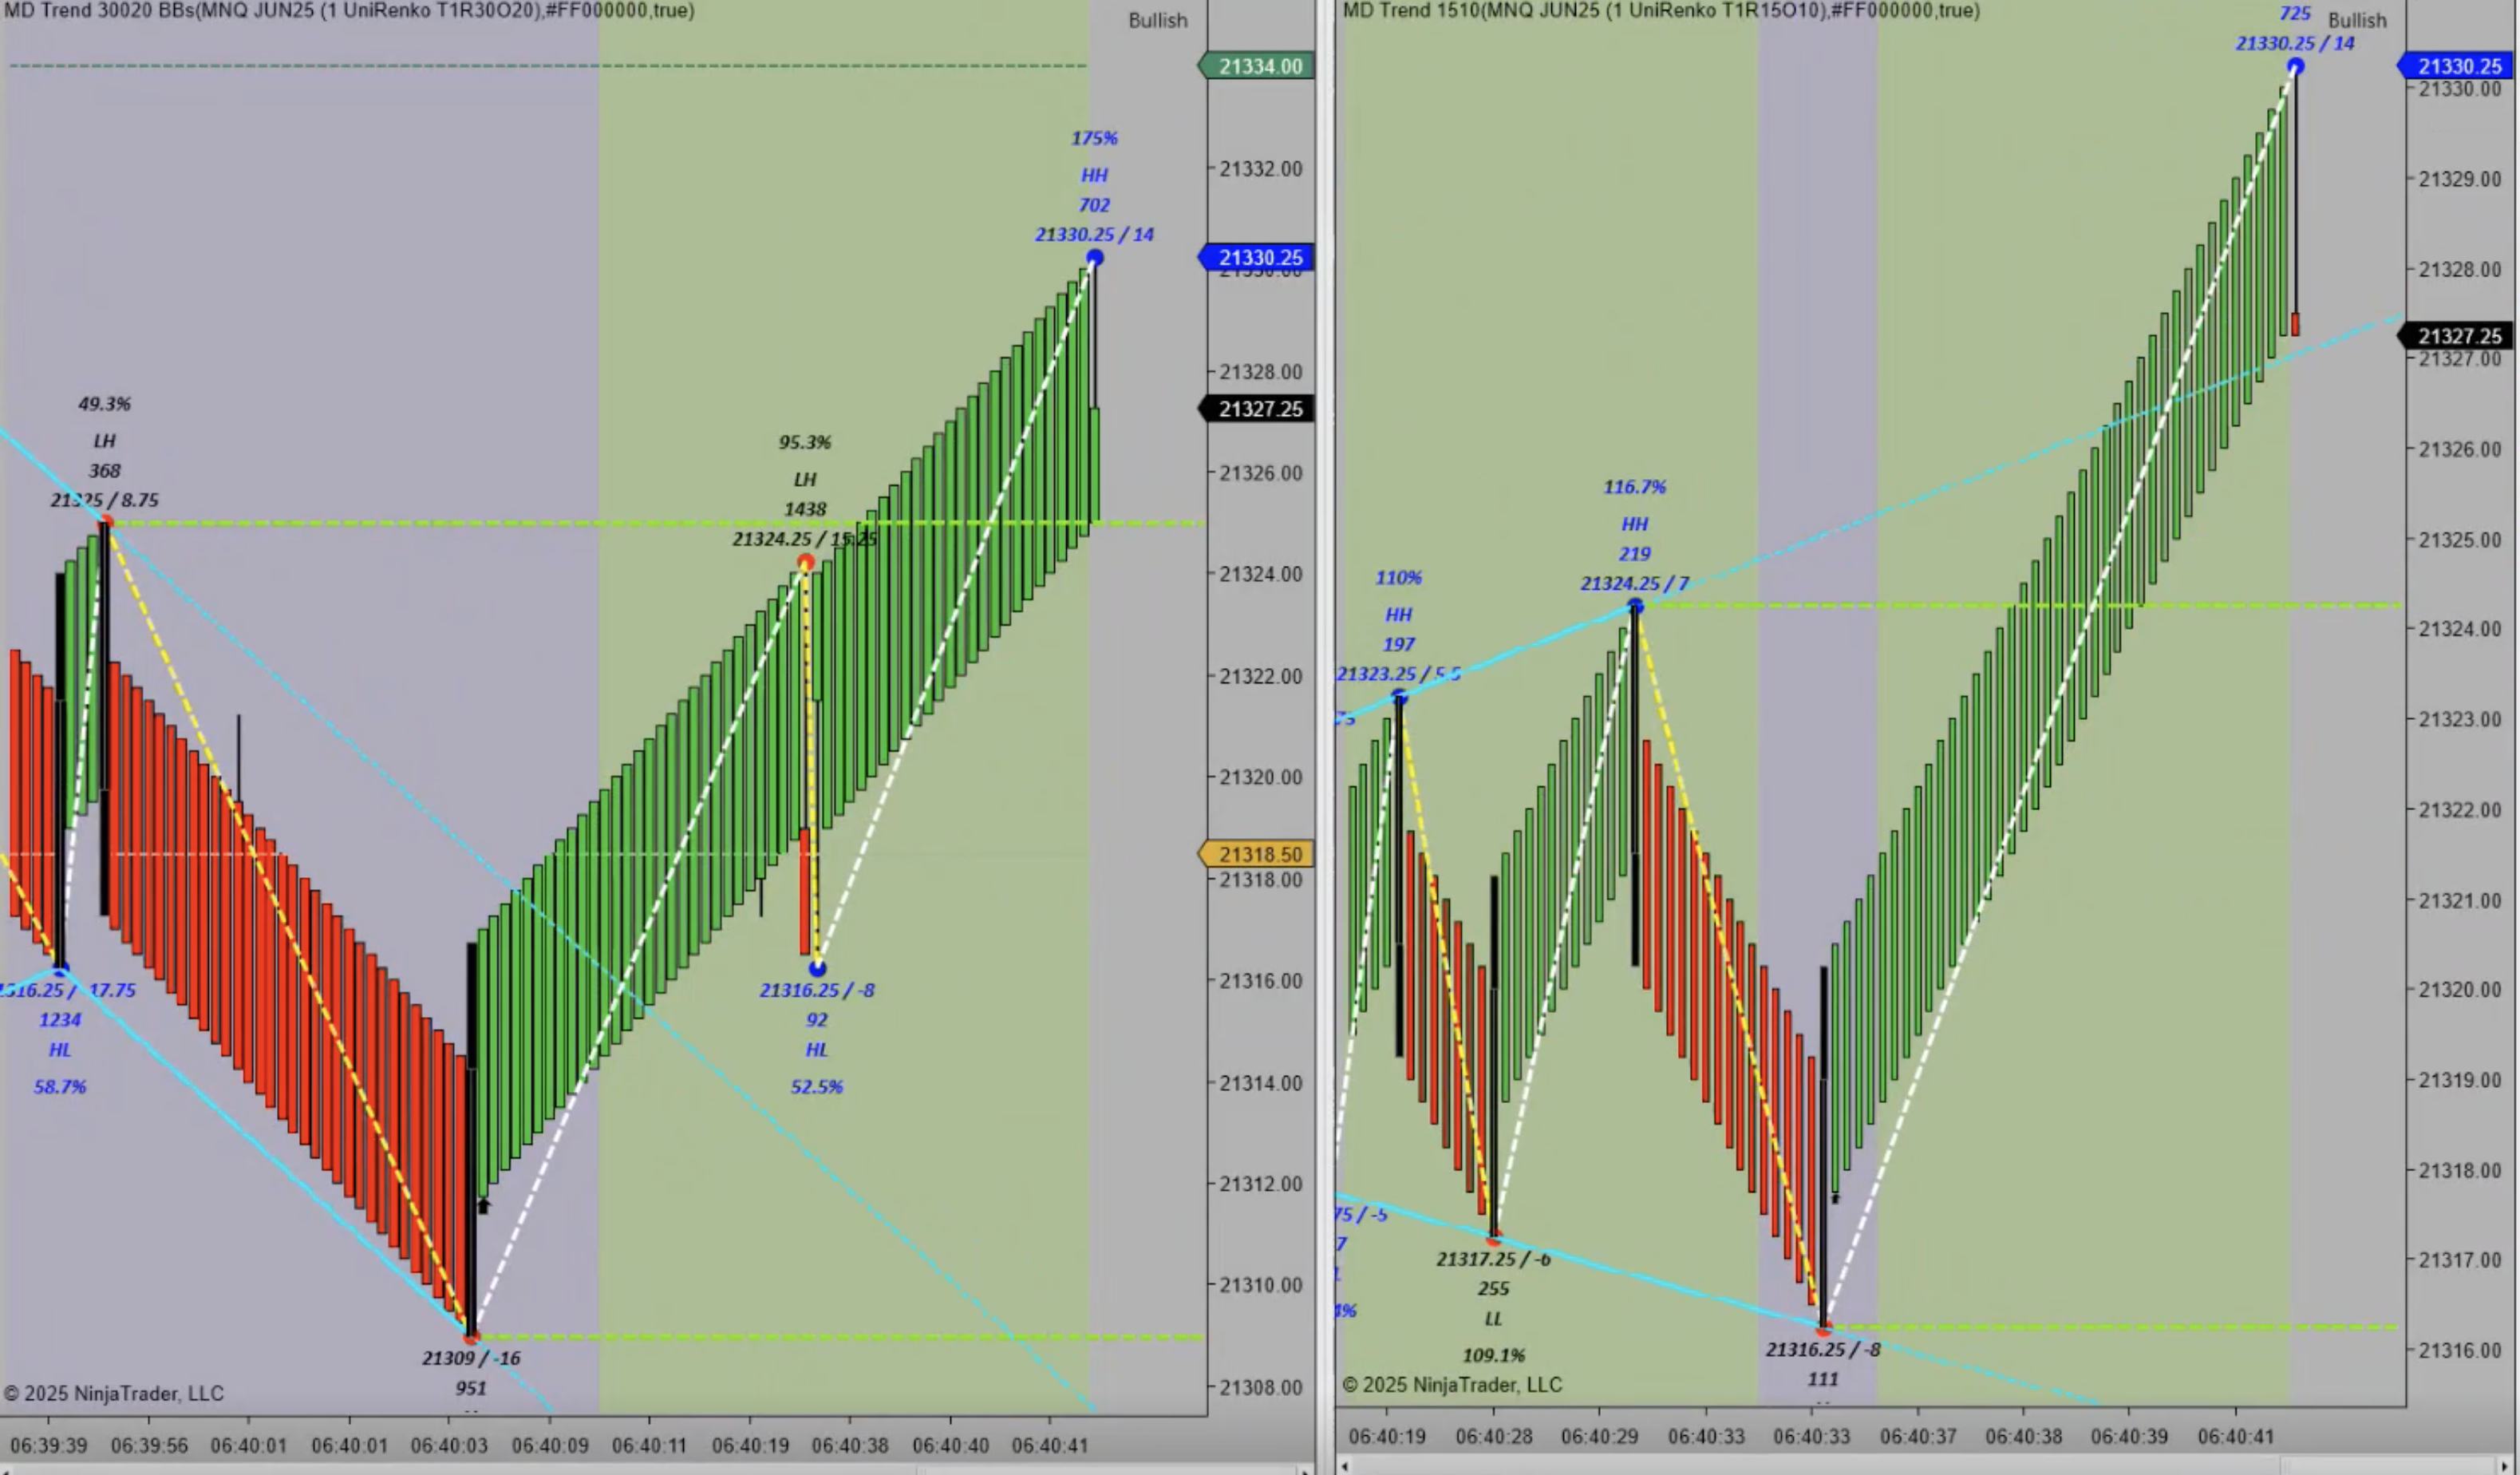candle: (53, 567, 74, 969), (1627, 601, 1648, 971), (463, 939, 483, 1322), (1393, 694, 1413, 1064), (98, 516, 114, 922), (1820, 966, 1836, 1326), (1488, 873, 1502, 1229)
